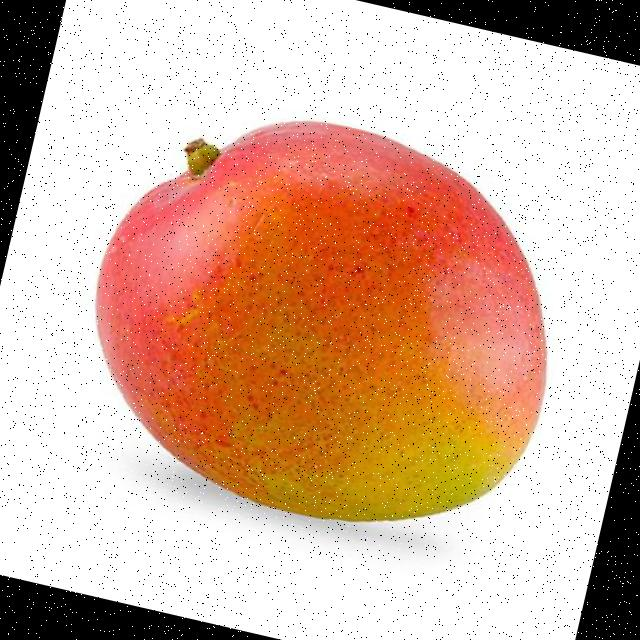mango: (95, 122, 545, 522)
